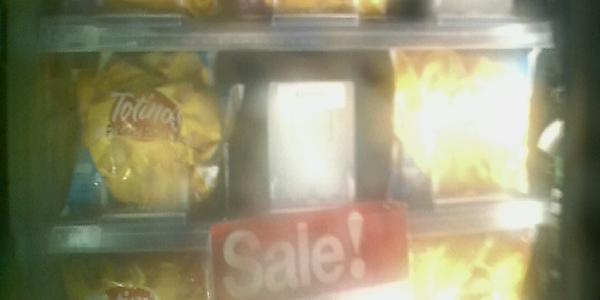icecream: (52, 45, 226, 242), (387, 30, 535, 223)
